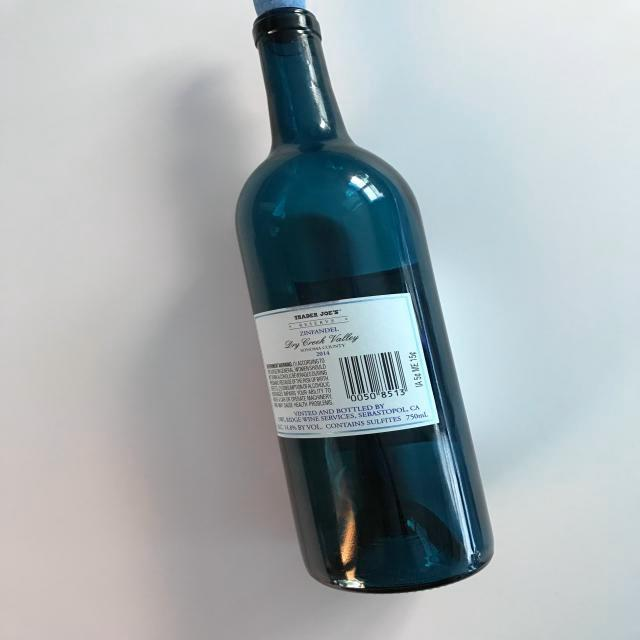glass: (224, 0, 512, 596)
